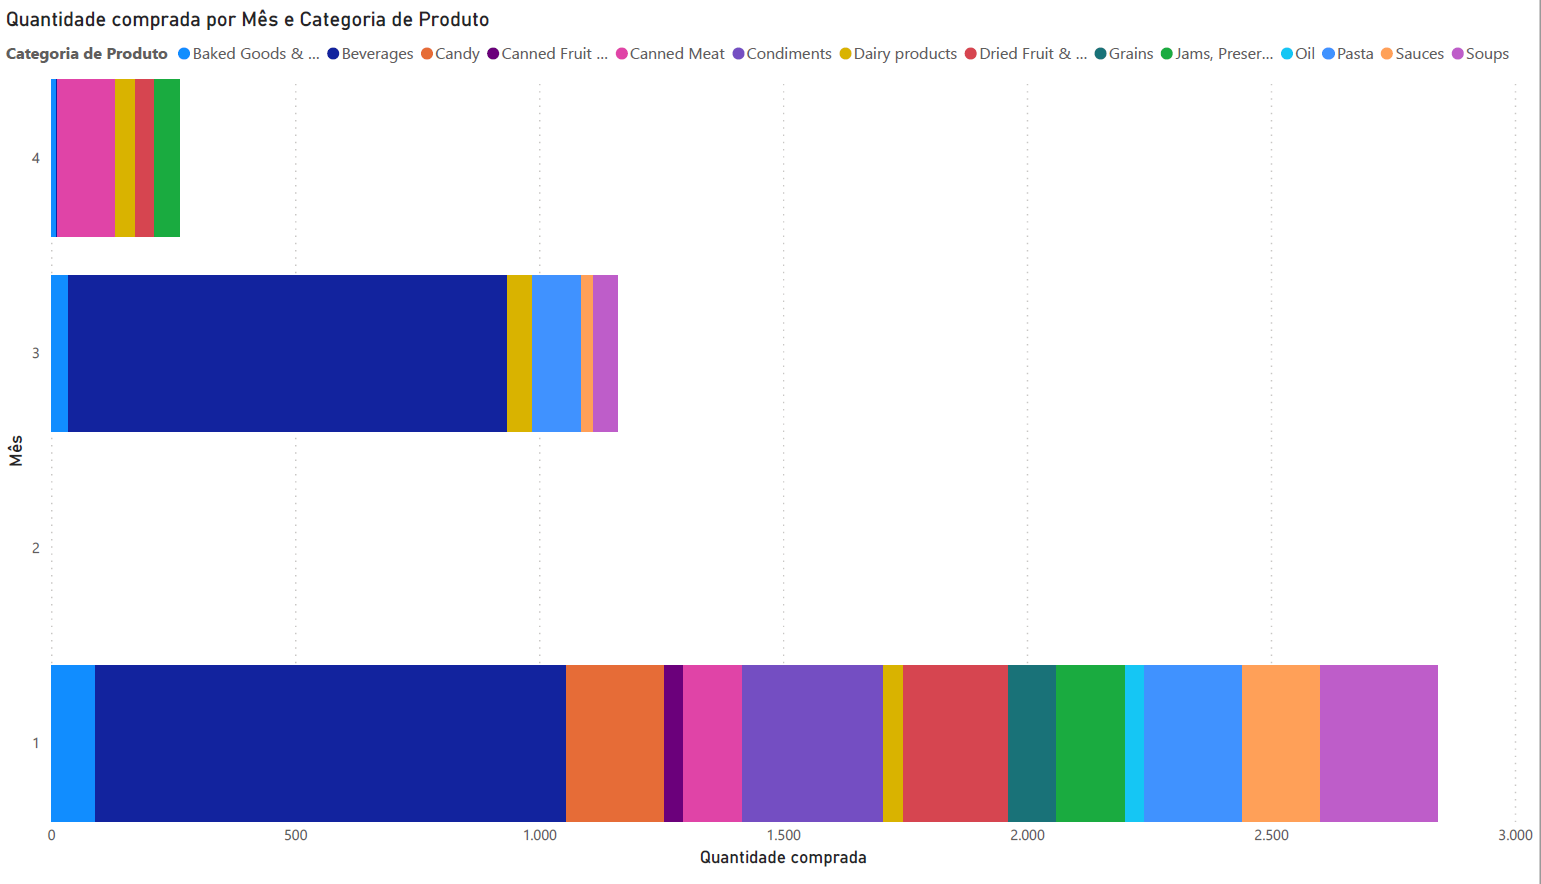

Layout of this report page (visuals, bound fields, positions):
{"tool":"powerbi","page":{"name":"Categorias mais compradas por mês","canvas":[1280,720],"ordinal":11},"visuals":[{"type":"barChart","fields":{"Category":["dw_northwind time_dim.month"],"Series":["dw_northwind product_dim.category"],"Y":["Sum(dw_northwind purchase_fact.quantity)"]},"box":[0,0,1280,719.8],"z":0}]}

Visuals, with their boxes in screenshot pixels (x1, y1, x2, y2), scaled from the page's 1280x720 canvas onto the 1541x884 screenshot:
barChart - dw_northwind time_dim.month x dw_northwind product_dim.category: (x1=0, y1=0, x2=1540, y2=883)
